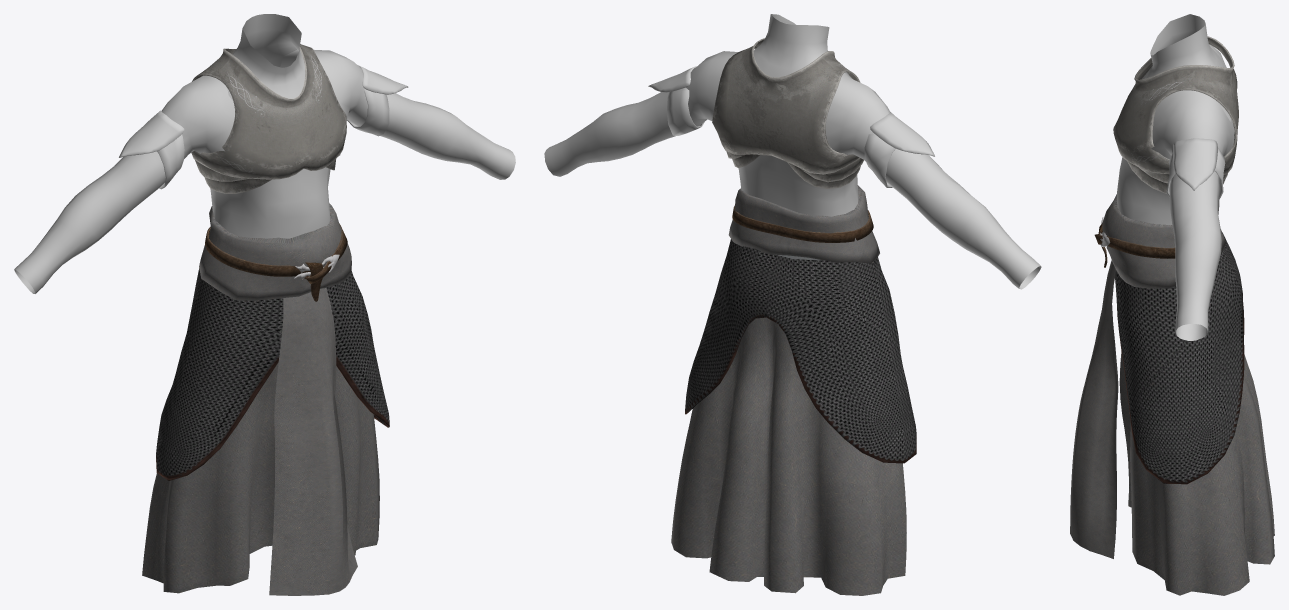
Rendered from rivendell_torso_light_armored_tier2_silver.fbx.
3 renders of one model, left to right at view 1: azimuth 30°, elevation 25°; view 2: azimuth 150°, elevation 25°; view 3: azimuth 270°, elevation 25°, orthographic. The views are drawn at different scales.
Parts seen in each view (by area): view 1: rivendell_torso_light_armored_tier2_silver.2, rivendell_torso_light_armored_tier2_silver.1, rivendell_torso_light_armored_tier2_silver.0, rivendell_torso_light_armored_tier2_silver.5, rivendell_torso_light_armored_tier2_silver.4, rivendell_torso_light_armored_tier2_silver.3; view 2: rivendell_torso_light_armored_tier2_silver.0, rivendell_torso_light_armored_tier2_silver.5, rivendell_torso_light_armored_tier2_silver.2, rivendell_torso_light_armored_tier2_silver.4, rivendell_torso_light_armored_tier2_silver.1, rivendell_torso_light_armored_tier2_silver.3; view 3: rivendell_torso_light_armored_tier2_silver.5, rivendell_torso_light_armored_tier2_silver.0, rivendell_torso_light_armored_tier2_silver.2, rivendell_torso_light_armored_tier2_silver.1, rivendell_torso_light_armored_tier2_silver.4, rivendell_torso_light_armored_tier2_silver.3.
Boxes of the visible parts, x1,y1,x2,y2 form: rivendell_torso_light_armored_tier2_silver.2: [14, 14, 515, 293]; rivendell_torso_light_armored_tier2_silver.1: [199, 203, 357, 595]; rivendell_torso_light_armored_tier2_silver.0: [142, 362, 379, 593]; rivendell_torso_light_armored_tier2_silver.5: [156, 268, 389, 480]; rivendell_torso_light_armored_tier2_silver.4: [191, 44, 346, 193]; rivendell_torso_light_armored_tier2_silver.3: [119, 65, 408, 189]; rivendell_torso_light_armored_tier2_silver.0: [671, 254, 906, 595]; rivendell_torso_light_armored_tier2_silver.5: [685, 239, 916, 463]; rivendell_torso_light_armored_tier2_silver.2: [544, 14, 1041, 289]; rivendell_torso_light_armored_tier2_silver.4: [712, 38, 863, 188]; rivendell_torso_light_armored_tier2_silver.1: [728, 185, 879, 263]; rivendell_torso_light_armored_tier2_silver.3: [648, 66, 934, 187]; rivendell_torso_light_armored_tier2_silver.5: [1115, 232, 1244, 484]; rivendell_torso_light_armored_tier2_silver.0: [1119, 351, 1274, 595]; rivendell_torso_light_armored_tier2_silver.2: [1117, 14, 1234, 340]; rivendell_torso_light_armored_tier2_silver.1: [1070, 194, 1226, 558]; rivendell_torso_light_armored_tier2_silver.4: [1113, 36, 1238, 193]; rivendell_torso_light_armored_tier2_silver.3: [1166, 138, 1225, 201].
Bounding box in the file's own units: 1.38 × 0.5129 × 1.46.
